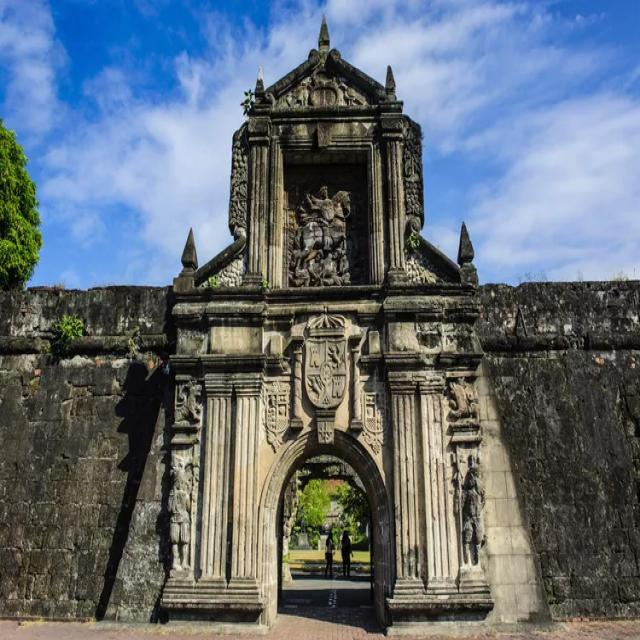Fort Santiago: (1, 19, 638, 639)
